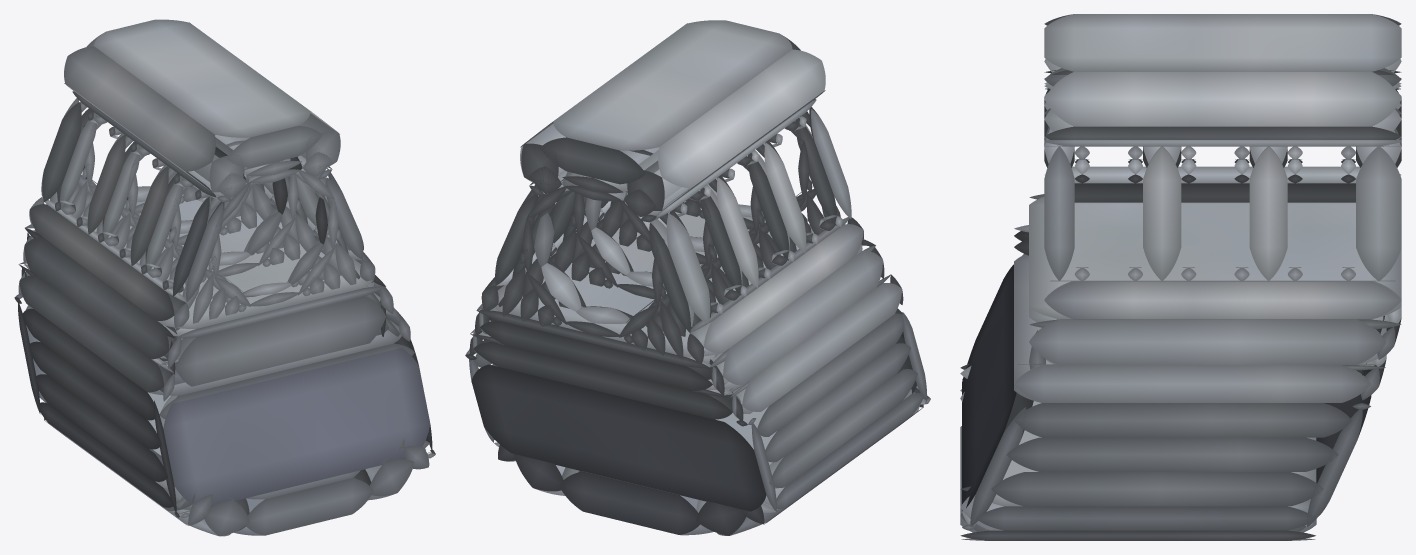
The model's file is deagle_357_muzzle_brake.fbx.
3 renders of one model, left to right at view 1: azimuth 30°, elevation 25°; view 2: azimuth 150°, elevation 25°; view 3: azimuth 270°, elevation 25°, orthographic. The views are drawn at different scales.
Visible parts, largest first — view 1: cube_30, cube_22, cube_31, cube_29, cube_13, cube_3, cube_1, cube_37, cube_2, cube_24, cube_7, cube_6 (+30 smaller); view 2: cube_4, cube_22, cube_29, cube_1, cube_37, cube_13, cube_2, cube_11, cube_12, cube_24, cube_3, cube_7 (+32 smaller); view 3: cube_23, cube_13, cube_22, cube_15, cube_75, cube_3, cube_14, cube_6, cube_7, cube_30, cube_8, cube_37 (+9 smaller).
Boxes of the visible parts, bbox=[...] form: cube_30: bbox=[154, 339, 432, 513]; cube_22: bbox=[86, 19, 322, 167]; cube_31: bbox=[169, 295, 386, 386]; cube_29: bbox=[64, 46, 244, 192]; cube_13: bbox=[25, 185, 385, 338]; cube_3: bbox=[23, 308, 414, 420]; cube_1: bbox=[23, 230, 181, 368]; cube_37: bbox=[29, 197, 189, 330]; cube_2: bbox=[18, 269, 174, 401]; cube_24: bbox=[234, 469, 373, 535]; cube_7: bbox=[34, 374, 167, 481]; cube_6: bbox=[30, 341, 161, 449]; cube_4: bbox=[469, 353, 776, 512]; cube_22: bbox=[540, 20, 800, 184]; cube_29: bbox=[626, 49, 825, 212]; cube_1: bbox=[709, 245, 884, 396]; cube_37: bbox=[687, 217, 863, 362]; cube_13: bbox=[476, 201, 875, 367]; cube_2: bbox=[730, 274, 903, 422]; cube_11: bbox=[473, 330, 740, 419]; cube_12: bbox=[479, 309, 718, 390]; cube_24: bbox=[559, 467, 713, 535]; cube_3: bbox=[475, 308, 903, 436]; cube_7: bbox=[769, 369, 917, 487]; cube_23: bbox=[1044, 72, 1401, 139]; cube_13: bbox=[1029, 194, 1401, 329]; cube_22: bbox=[1044, 14, 1401, 71]; cube_15: bbox=[1029, 319, 1386, 364]; cube_75: bbox=[1044, 280, 1401, 319]; cube_3: bbox=[1014, 254, 1352, 437]; cube_14: bbox=[1014, 364, 1370, 402]; cube_6: bbox=[1006, 437, 1338, 471]; cube_7: bbox=[991, 472, 1323, 506]; cube_30: bbox=[962, 254, 1033, 526]; cube_8: bbox=[976, 401, 1316, 530]; cube_37: bbox=[1071, 166, 1400, 202].
Bounding box in the file's own units: 18.75 × 25.81 × 22.68.
1 material, 1 textured.
